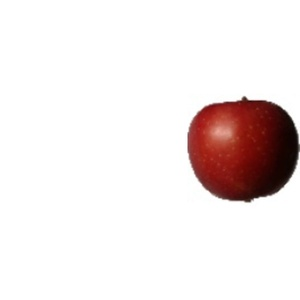maçã braeburn: (187, 100, 300, 203)
